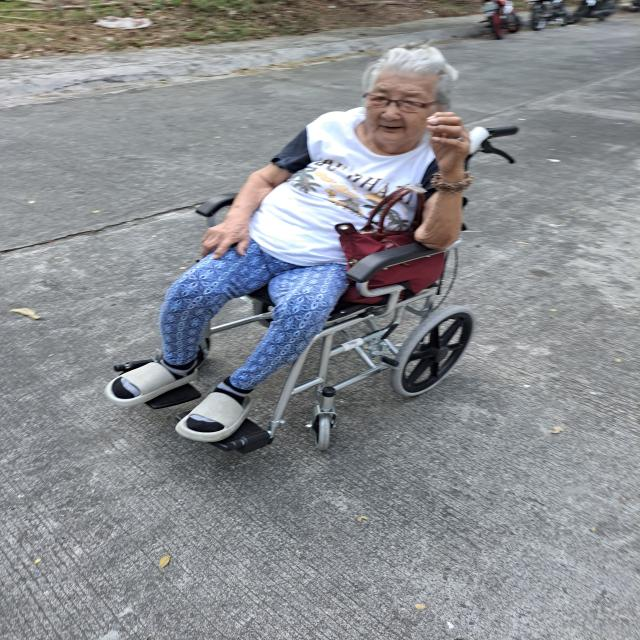wheelchairs: (113, 124, 519, 456)
